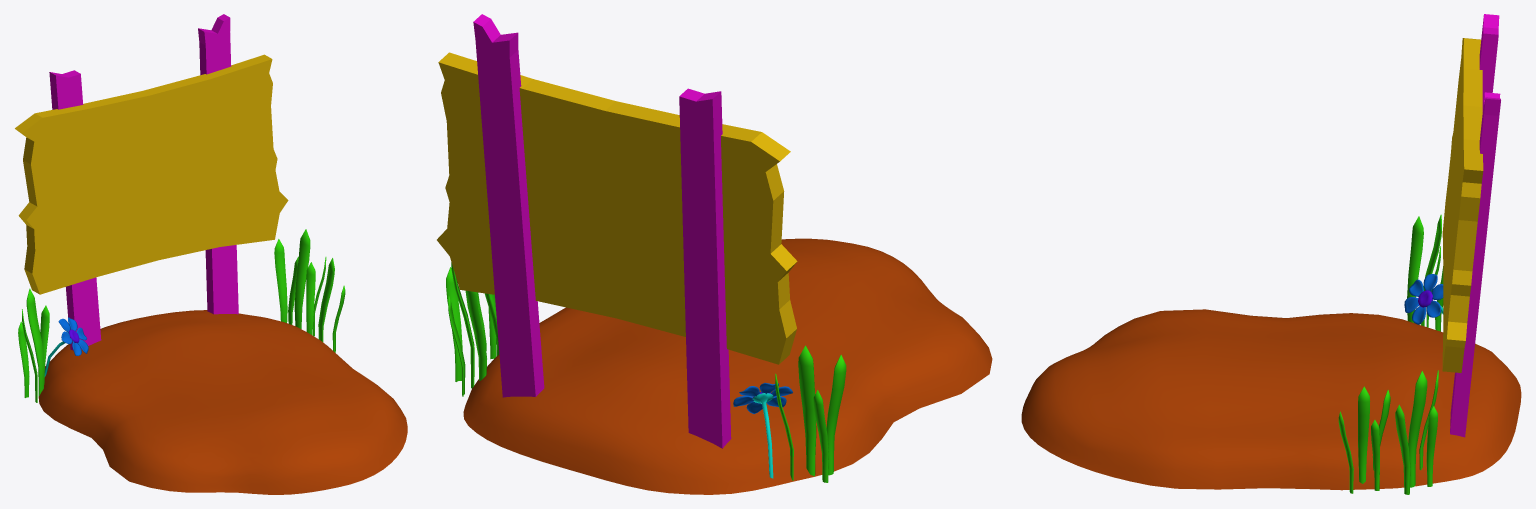
The model's file is catgrave.fbx.
3 views of the same model, side by side, from view 1: azimuth 30°, elevation 25°; view 2: azimuth 150°, elevation 25°; view 3: azimuth 270°, elevation 25° (orthographic). The views are drawn at different scales.
Visible parts, largest first — view 1: Grave; view 2: Grave; view 3: Grave.
Boxes of the visible parts, x1=… form: Grave: x1=15, y1=14, x2=407, y2=494; Grave: x1=437, y1=14, x2=992, y2=494; Grave: x1=1021, y1=14, x2=1521, y2=494.
Size of the model in its own units: 175 by 173 by 213.
